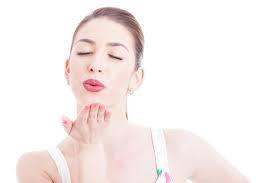closed: (68, 34, 134, 68)
